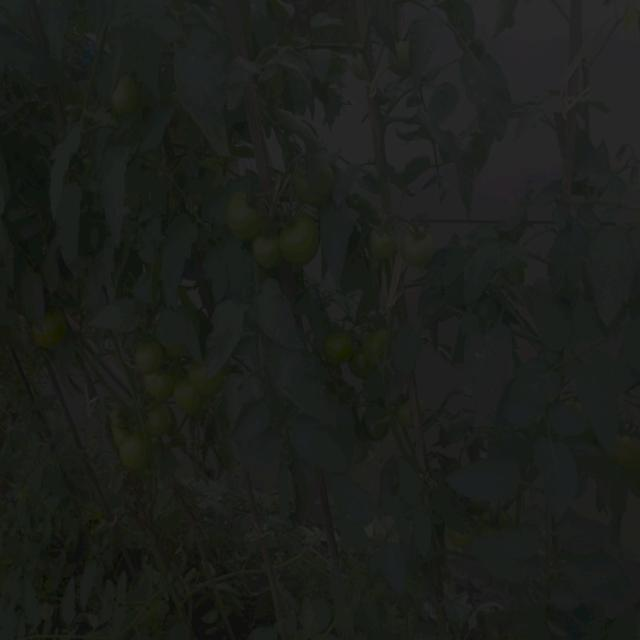tomato: (283, 211, 320, 269), (402, 222, 440, 277), (223, 186, 265, 227), (608, 421, 640, 473), (321, 330, 362, 370), (253, 232, 283, 274), (121, 438, 157, 473), (106, 71, 138, 108), (31, 317, 71, 345), (132, 338, 168, 368), (382, 43, 414, 76), (365, 225, 396, 257), (190, 360, 219, 394), (145, 373, 184, 397), (149, 398, 171, 437), (365, 322, 388, 357), (448, 523, 471, 551), (176, 384, 196, 411), (395, 397, 416, 414), (351, 48, 365, 73)
